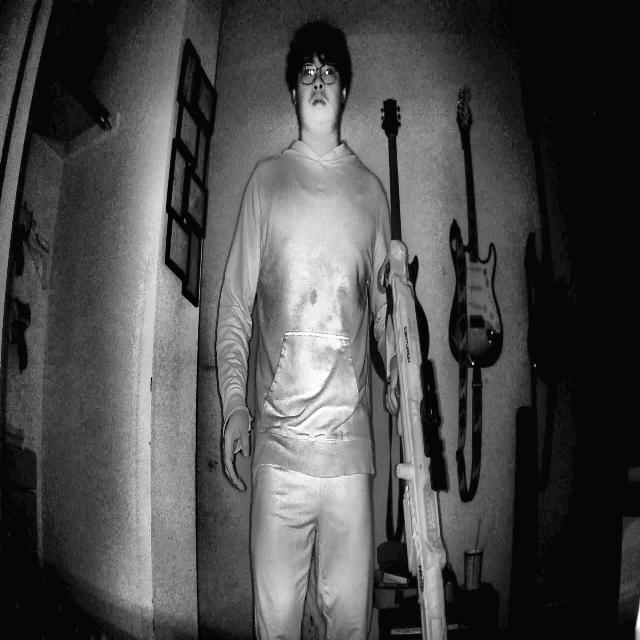Nerf_Blaster: (364, 206, 460, 640)
